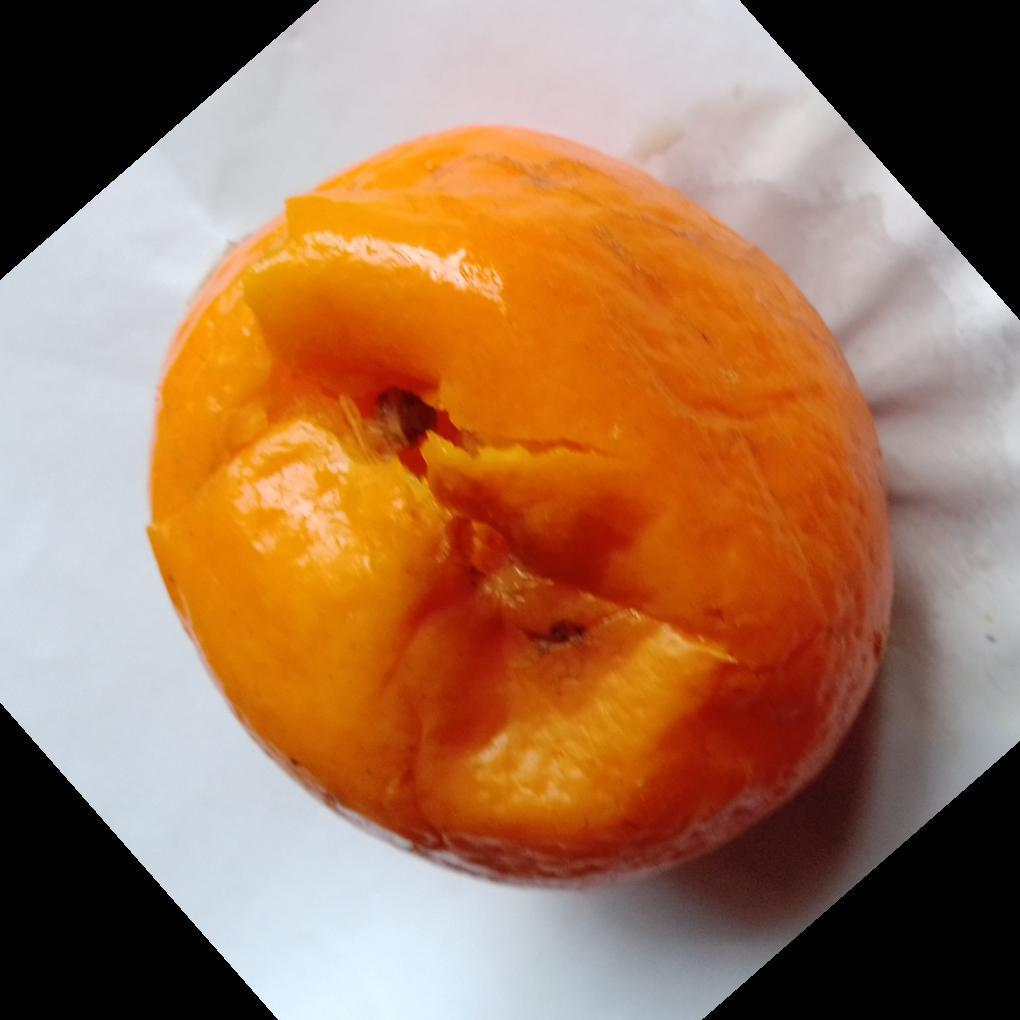FreshOrange: (145, 125, 894, 893)
